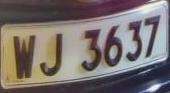3: (75, 25, 103, 73), (124, 15, 145, 63)
6: (102, 19, 125, 68)
7: (143, 9, 163, 58)
J: (38, 27, 68, 82)
W: (7, 29, 38, 84)
